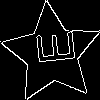E: (27, 28, 75, 67)
